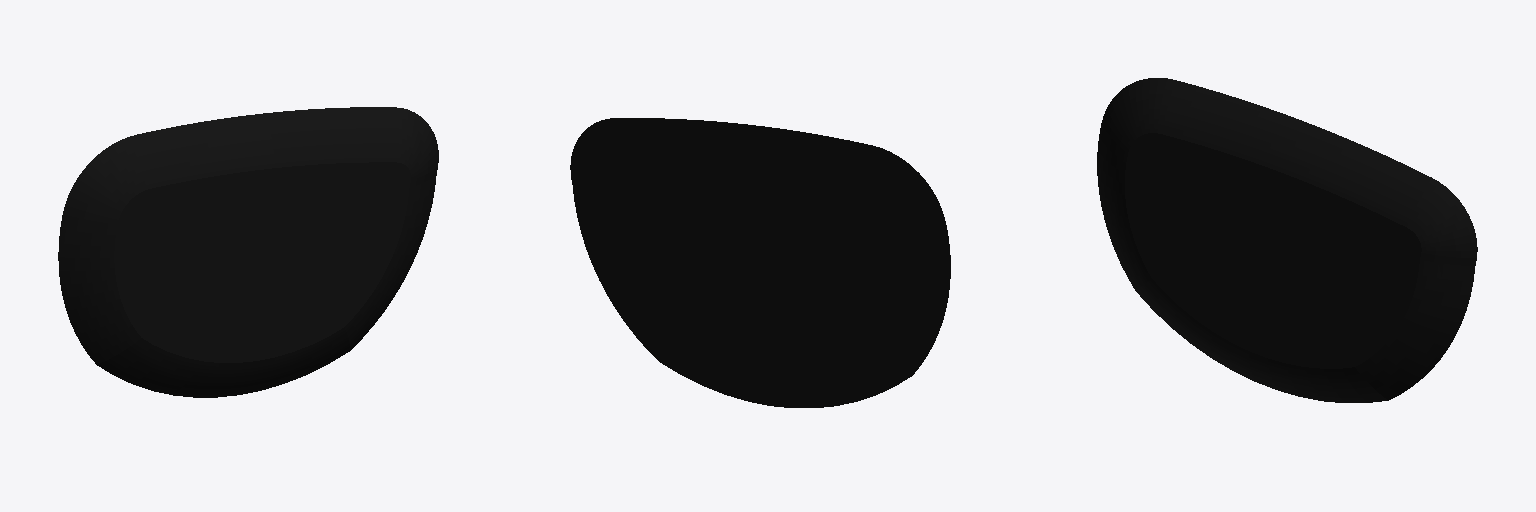
File: original-2.obj
3 renders of one model, left to right at view 1: azimuth 30°, elevation 25°; view 2: azimuth 150°, elevation 25°; view 3: azimuth 330°, elevation 25°, orthographic.
Parts seen in each view (by area): view 1: lens1/lens/mesh2/mesh2-geometry#mesh2-geometry; view 2: lens1/lens/mesh2/mesh2-geometry#mesh2-geometry; view 3: lens1/lens/mesh2/mesh2-geometry#mesh2-geometry.
Part boxes in pixels (bbox=[...]): lens1/lens/mesh2/mesh2-geometry#mesh2-geometry: bbox=[58, 107, 438, 397]; lens1/lens/mesh2/mesh2-geometry#mesh2-geometry: bbox=[570, 118, 950, 407]; lens1/lens/mesh2/mesh2-geometry#mesh2-geometry: bbox=[1097, 78, 1477, 402].
Bounding box in the file's own units: 0.4698 × 0.338 × 0.0315.